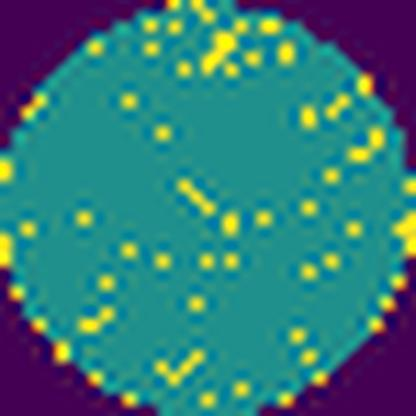Loc: (200, 25, 240, 76)
